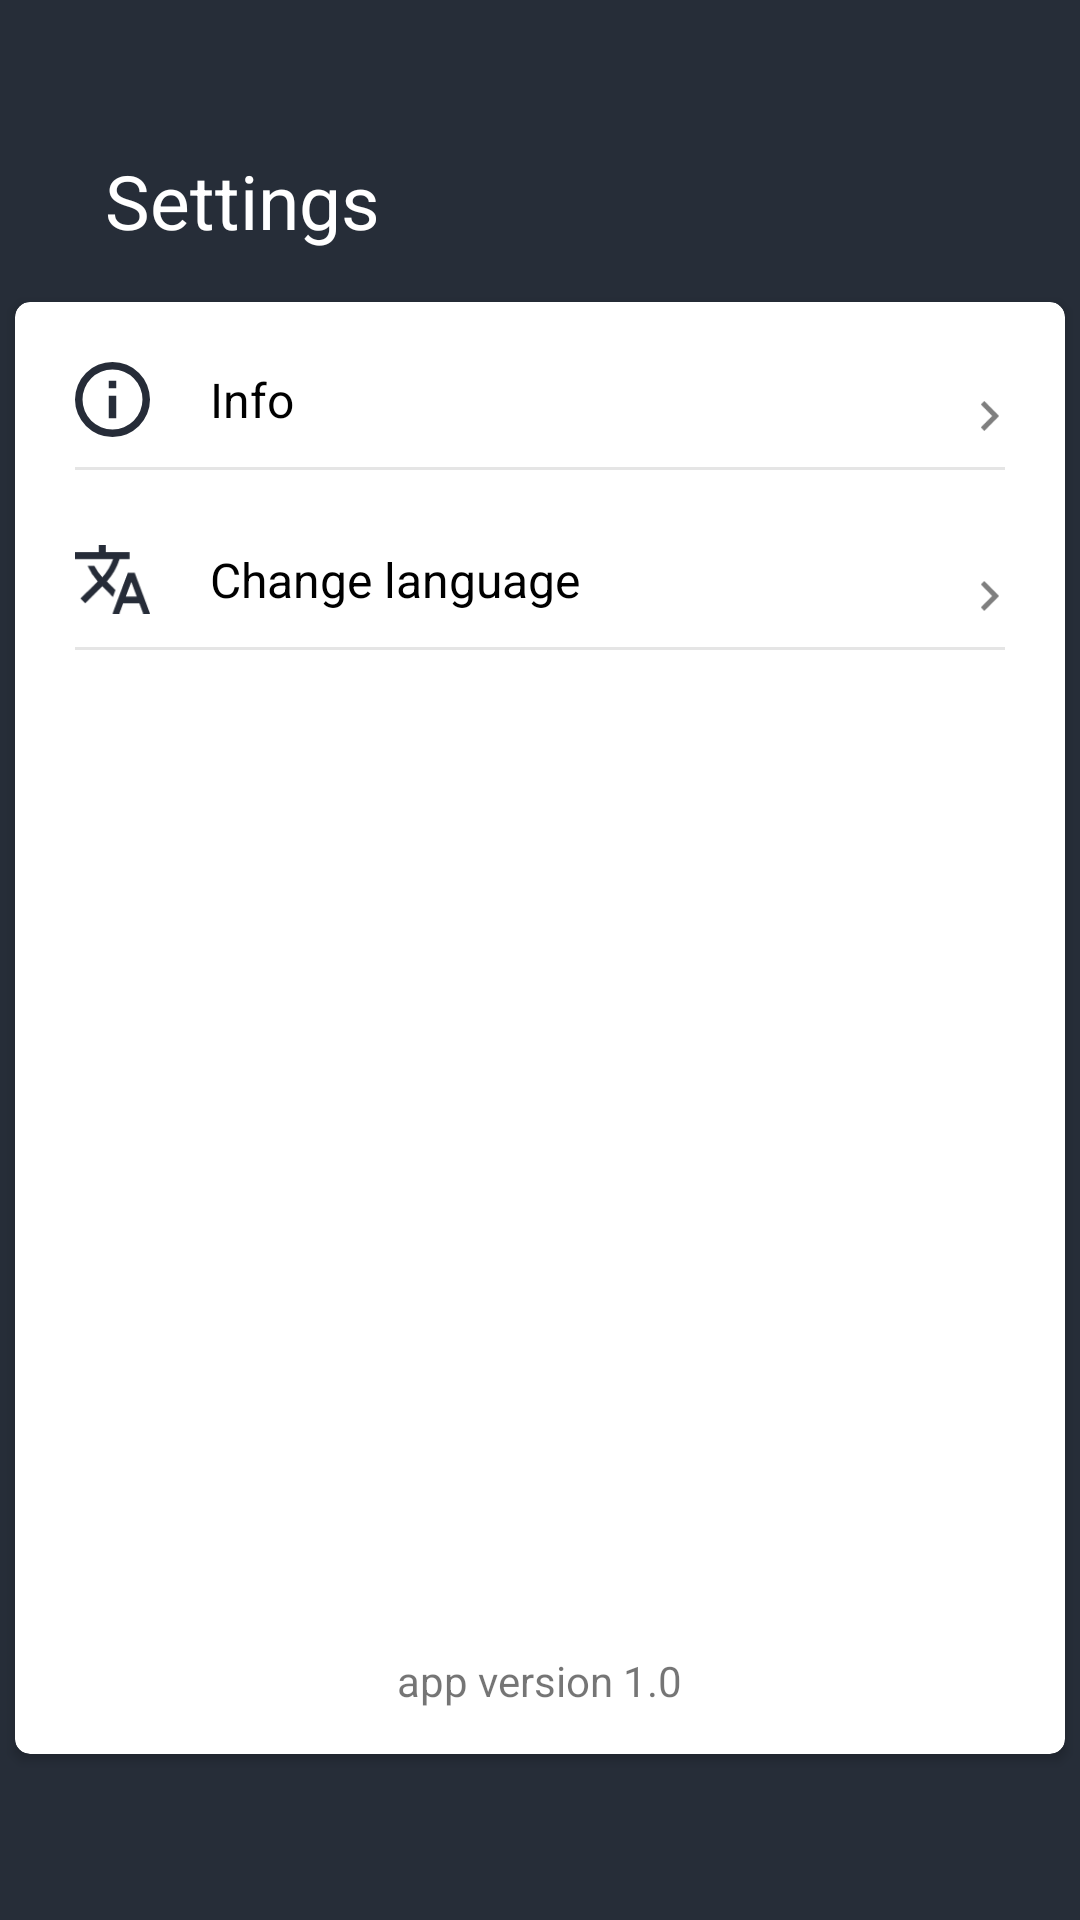

Icons on this 1080*1920 Android screen, each with its box as rect(x1, y1, x2, y2):
next: rect(981, 401, 999, 431), rect(981, 581, 999, 611)
translate: rect(75, 545, 150, 614)
